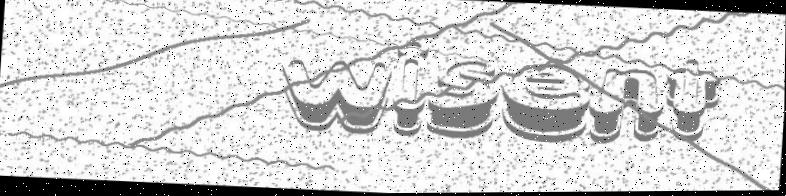e: (499, 58, 594, 147)
l: (391, 51, 428, 145)
n: (586, 65, 668, 152)
s: (420, 53, 504, 147)
t: (664, 57, 726, 155)
w: (268, 52, 396, 143)
